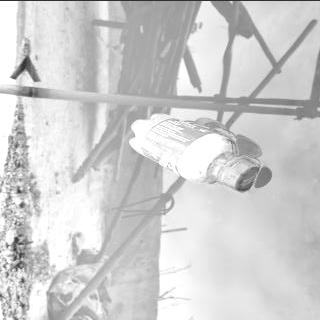bottle: (125, 110, 264, 194)
